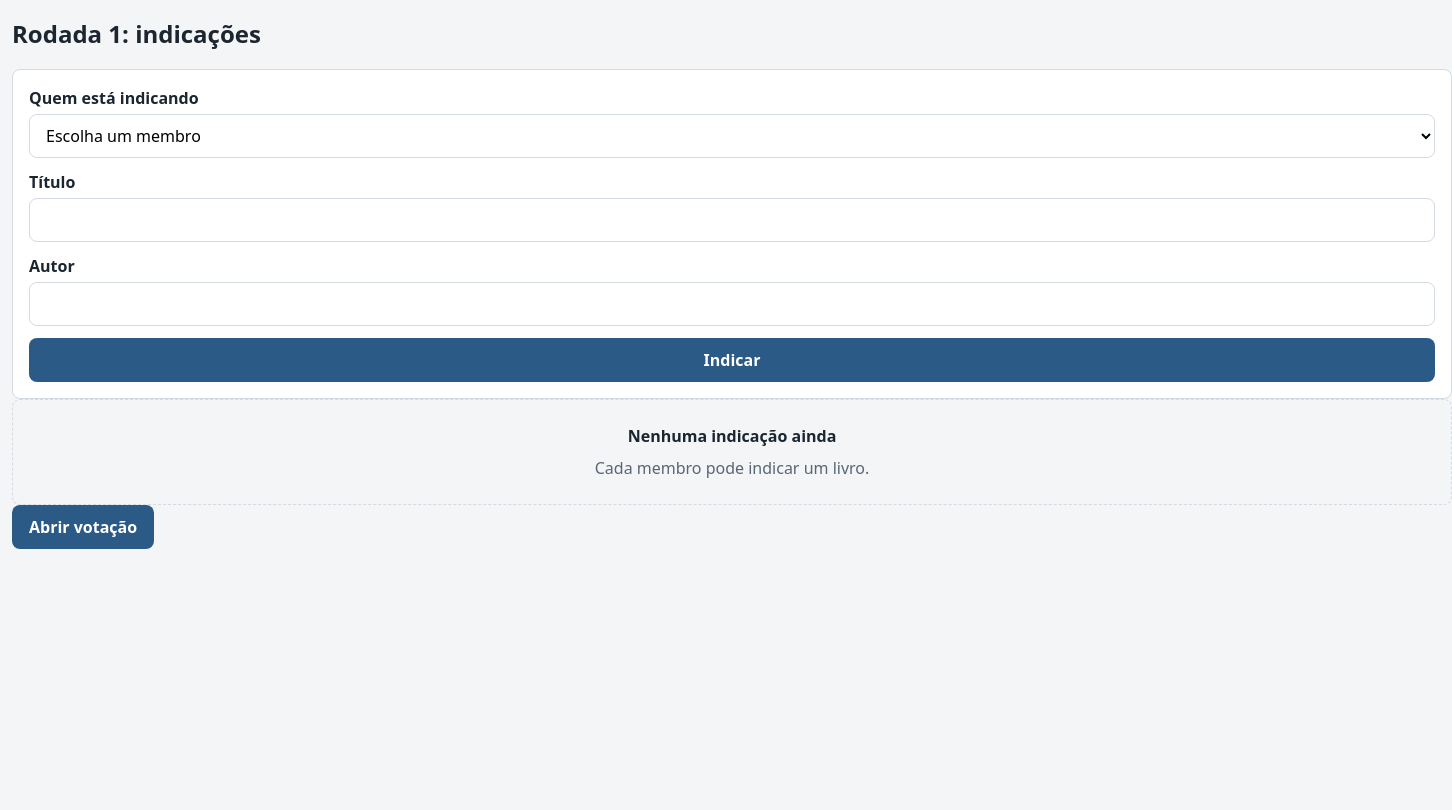
NominationStep › não abre a votação com menos de dois livros (R7)
Step 1. Click the button "Abrir votação" → (83, 527), box [12, 505, 154, 549]
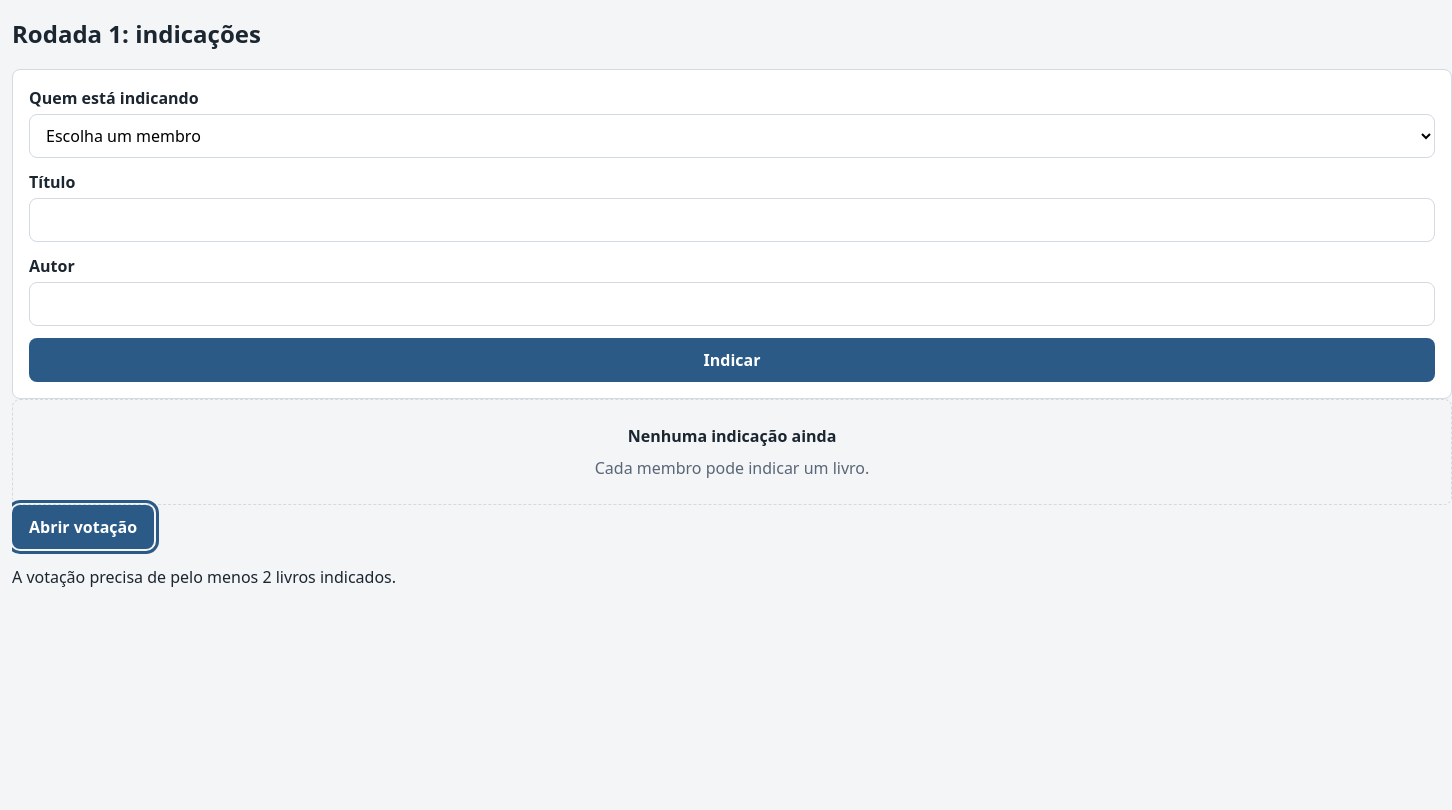
Expected: the message shows "pelo menos 2 livros", [12, 566, 396, 588]
